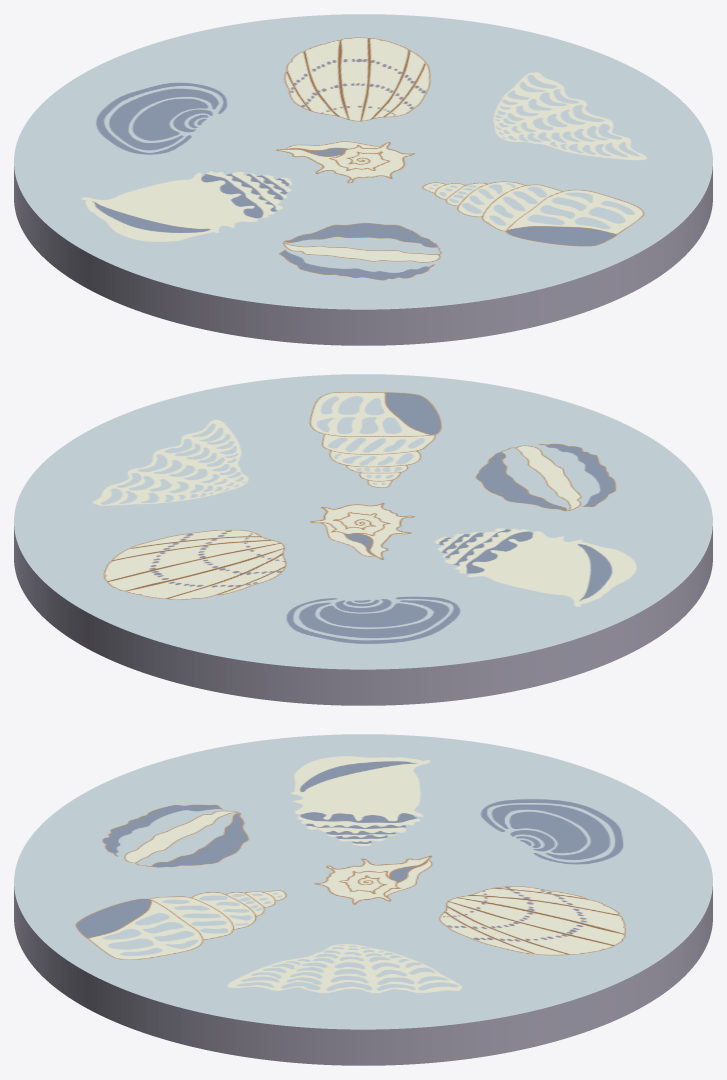
The model's file is snackor.glb.
The picture shows the model from 3 angles, top to bottom: view 1: azimuth 30°, elevation 25°; view 2: azimuth 150°, elevation 25°; view 3: azimuth 270°, elevation 25°; orthographic projection.
Parts seen in each view (by area): view 1: Cylinder; view 2: Cylinder; view 3: Cylinder.
Part boxes in pixels (bbox=[...]): Cylinder: bbox=[14, 14, 712, 345]; Cylinder: bbox=[14, 374, 712, 705]; Cylinder: bbox=[14, 734, 712, 1065].
Size of the model in its own units: 3.5 by 0.2 by 3.5.
Materials: 2 (1 with a texture image).
